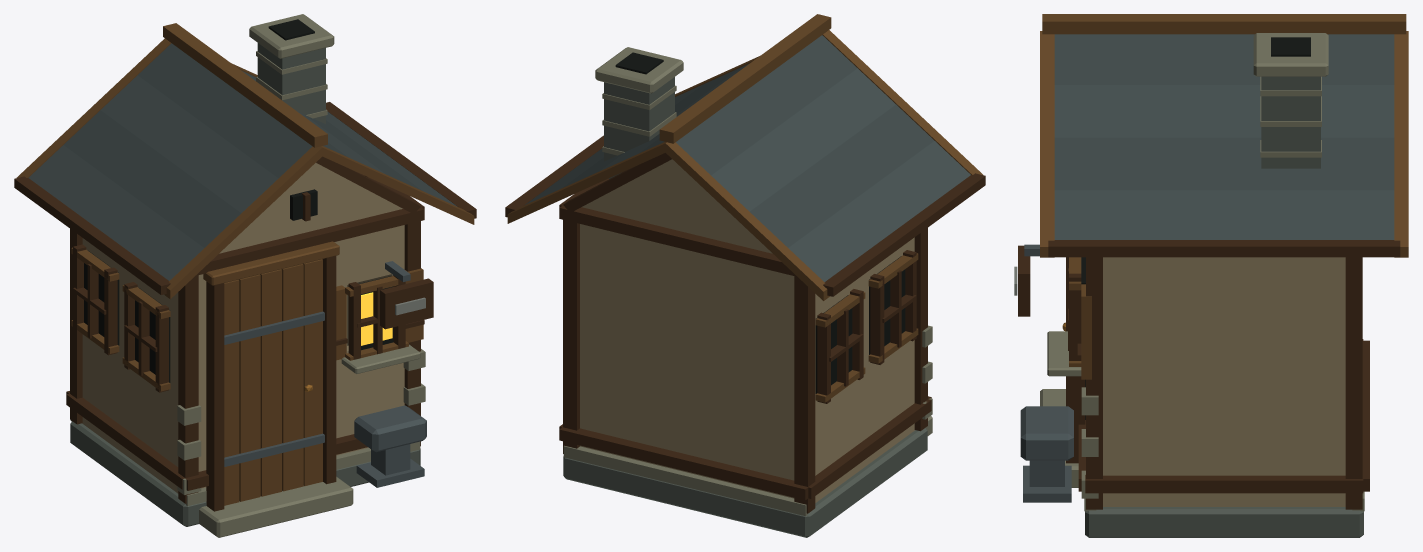
The model's file is SM_ENV_Building_02_Smithy.glb.
The picture shows the model from 3 angles, left to right: view 1: azimuth 30°, elevation 25°; view 2: azimuth 150°, elevation 25°; view 3: azimuth 270°, elevation 25°; orthographic projection. The views are drawn at different scales.
Parts seen in each view (by area): view 1: SM_ENV_Building_02_Smithy; view 2: SM_ENV_Building_02_Smithy; view 3: SM_ENV_Building_02_Smithy.
Part boxes in pixels (x1,y1,x2,y2): SM_ENV_Building_02_Smithy: (14, 14, 476, 537); SM_ENV_Building_02_Smithy: (505, 14, 985, 537); SM_ENV_Building_02_Smithy: (1014, 14, 1408, 537).
Size of the model in its own units: 4.38 by 5.18 by 3.96.
